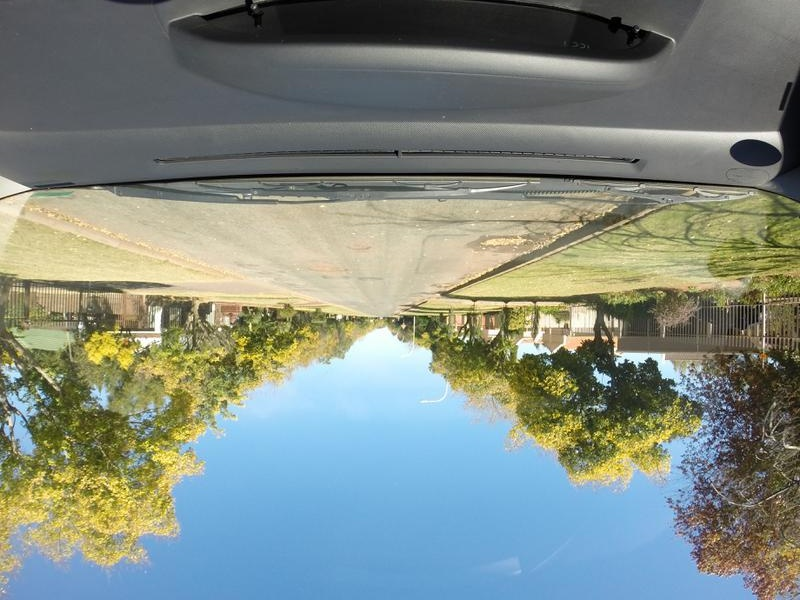pothole: (299, 261, 346, 278), (479, 232, 518, 251), (346, 244, 368, 252)
